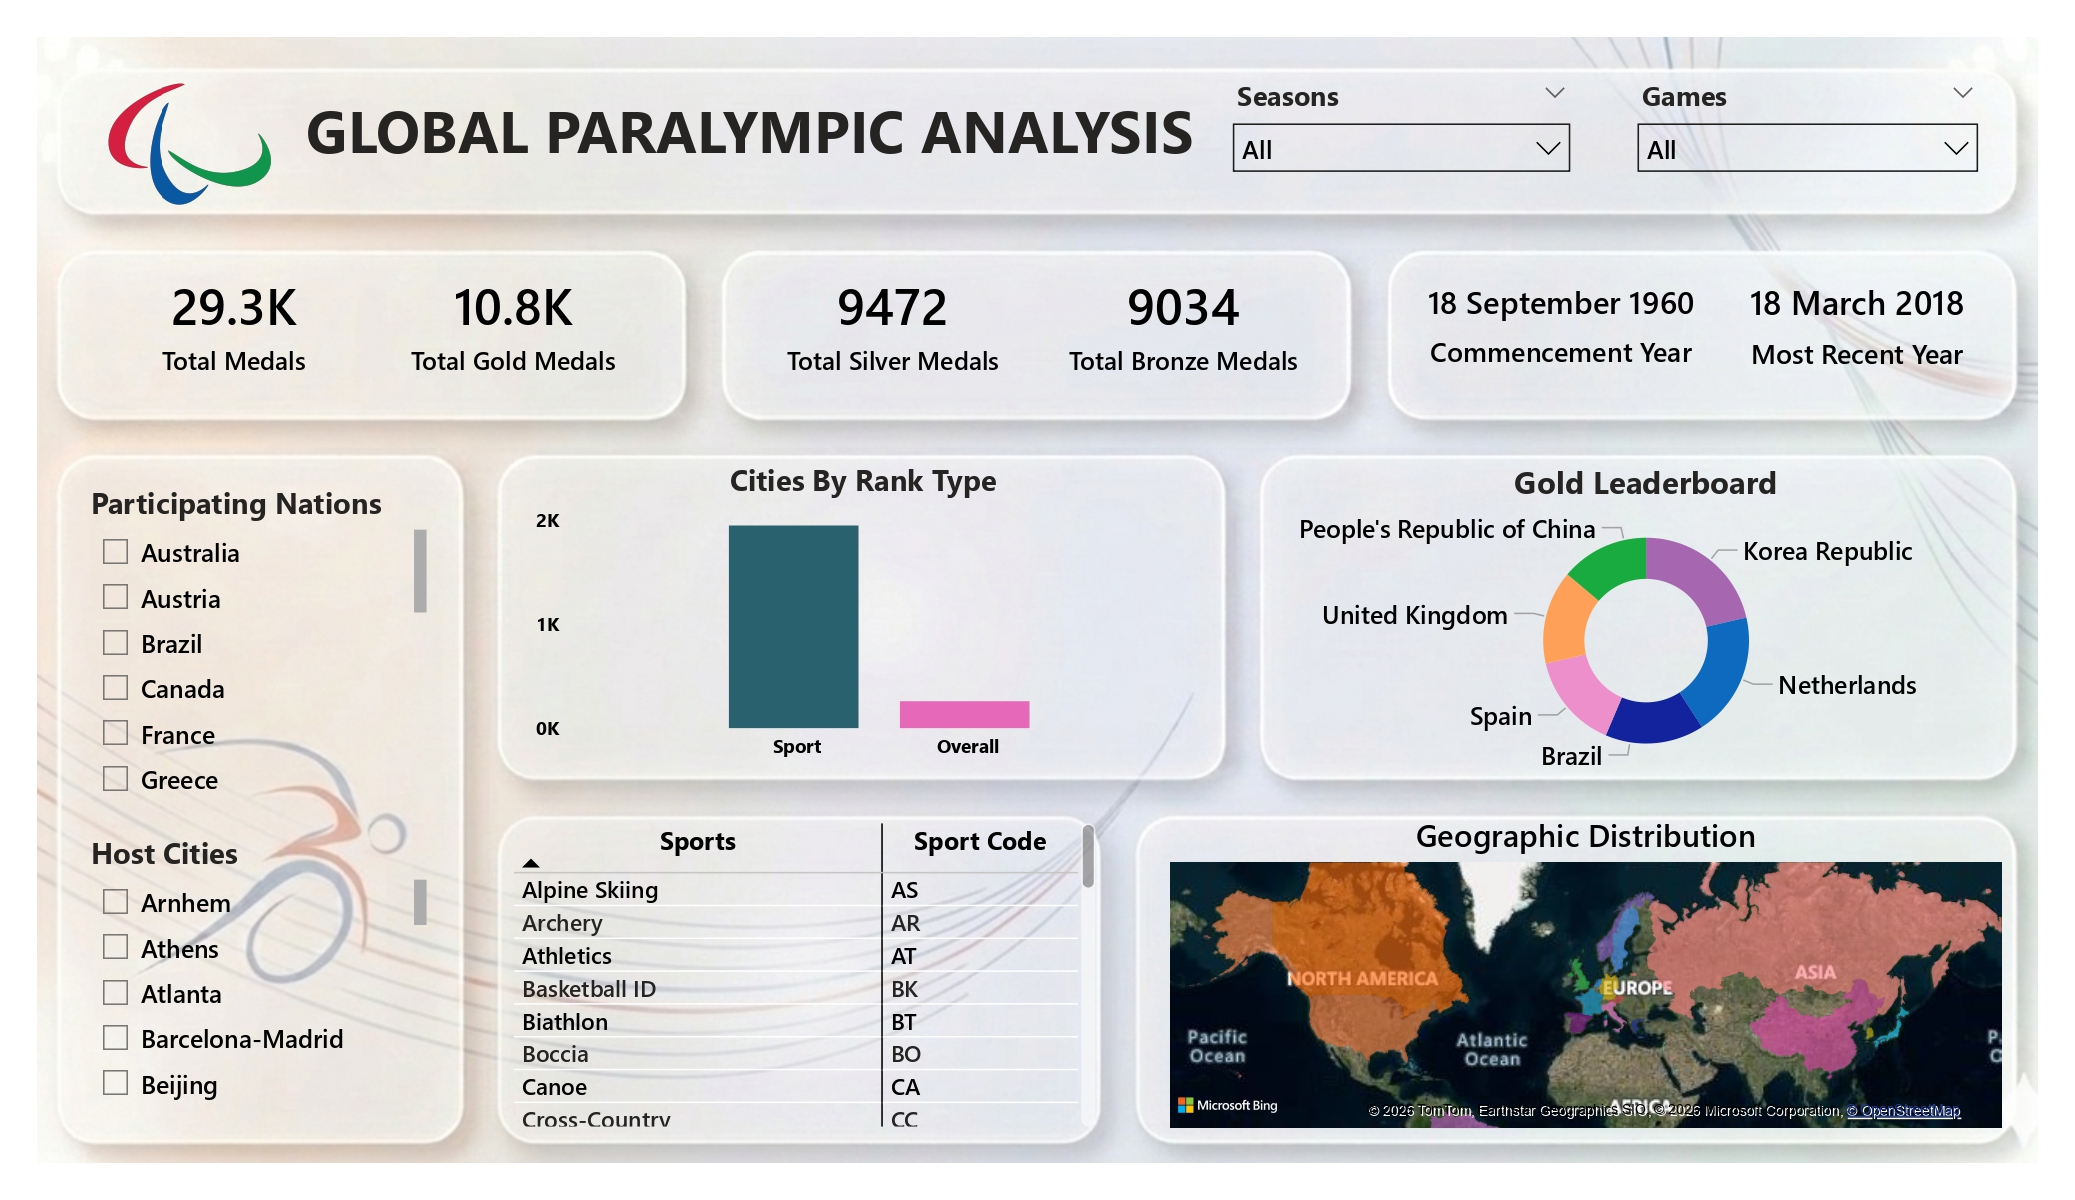

The dashboard page shown, as its layout file describes it:
{"tool":"powerbi","page":{"name":"Page 1","canvas":[1280,720],"ordinal":0},"visuals":[{"type":"textbox","box":[166.7,29,588.4,69.6],"z":0},{"type":"slicer","fields":{"Values":["Sheet1.games_season"]},"box":[755.1,20.3,236.2,87],"z":1000},{"type":"slicer","fields":{"Values":["Sheet1.sport"]},"box":[1014.5,20.3,237.7,87],"z":2000},{"type":"slicer","title":"Participating Nations","fields":{"Values":["Sheet1.games_country"]},"box":[28.9,284.8,225.5,211.1],"z":3000},{"type":"slicer","title":"Host Cities","fields":{"Values":["Sheet1.games_city"]},"box":[28.9,508.9,225.5,180.7],"z":4000},{"type":"filledMap","title":"Geographic Distribution","fields":{"Category":["Sheet1.games_country","Sheet1.games_continent"],"Series":["Sheet1.games_city"]},"box":[720,495.9,542.2,206.7],"z":5000},{"type":"card","title":"Countries ","fields":{"Values":["Min(Sheet1.games_start)"]},"box":[882.6,139.1,184.1,87],"z":6000},{"type":"card","title":"Countries ","fields":{"Values":["Max(Sheet1.games_end)"]},"box":[1066.7,139.1,195.7,87],"z":7000},{"type":"donutChart","title":"Gold Leaderboard","fields":{"Category":["Sheet1.games_country"],"Y":["Sheet1.Total Gold Medals"]},"box":[797.1,269.6,465.2,205.8],"z":8000},{"type":"card","title":"Countries ","fields":{"Values":["Sheet1.Total Silver Medals"]},"box":[468.4,138.8,159,86.7],"z":9000},{"type":"card","title":"Countries ","fields":{"Values":["Sheet1.Total Gold Medals"]},"box":[224.6,139.1,159.4,87],"z":10000},{"type":"card","title":"Countries ","fields":{"Values":["Sheet1.Total Bronze Medals"]},"box":[653.6,139.1,159.4,87],"z":11000},{"type":"image","box":[27.5,29,139.1,78.3],"z":12000},{"type":"tableEx","fields":{"Values":["Sheet1.sport","Sheet1.sport_code"]},"box":[304.3,502.9,372.5,194.2],"z":13000},{"type":"card","fields":{"Values":["Sheet1.Total Medals"]},"box":[27.5,139.1,195.7,87],"z":14000},{"type":"columnChart","title":"Cities By Rank Type","fields":{"Category":["Sheet1.rank_type"],"Y":["CountNonNull(Sheet1.games_city)"]},"box":[314.5,269.6,429,202.9],"z":16000}]}

Visuals, with their boxes on the page's 1280x720 design canvas (x1, y1, x2, y2). These are canvas units, not pixel positions in the 2075x1200 screenshot, which may show the page scaled, cropped or inside an application window:
textbox: select_region(167, 29, 755, 99)
slicer - Sheet1.games_season: select_region(755, 20, 991, 107)
slicer - Sheet1.sport: select_region(1014, 20, 1252, 107)
"Participating Nations" slicer: select_region(29, 285, 254, 496)
"Host Cities" slicer: select_region(29, 509, 254, 690)
"Geographic Distribution" filledMap: select_region(720, 496, 1262, 703)
"Countries " card: select_region(883, 139, 1067, 226)
"Countries " card: select_region(1067, 139, 1262, 226)
"Gold Leaderboard" donutChart: select_region(797, 270, 1262, 475)
"Countries " card: select_region(468, 139, 627, 226)
"Countries " card: select_region(225, 139, 384, 226)
"Countries " card: select_region(654, 139, 813, 226)
image: select_region(28, 29, 167, 107)
tableEx - Sheet1.sport x Sheet1.sport_code: select_region(304, 503, 677, 697)
card - Sheet1.Total Medals: select_region(28, 139, 223, 226)
"Cities By Rank Type" columnChart: select_region(314, 270, 744, 472)
